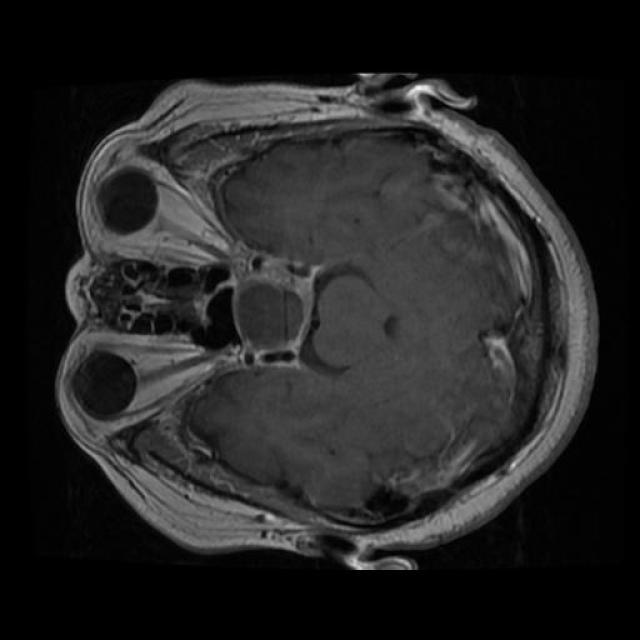Pituitary: (226, 253, 323, 366)
